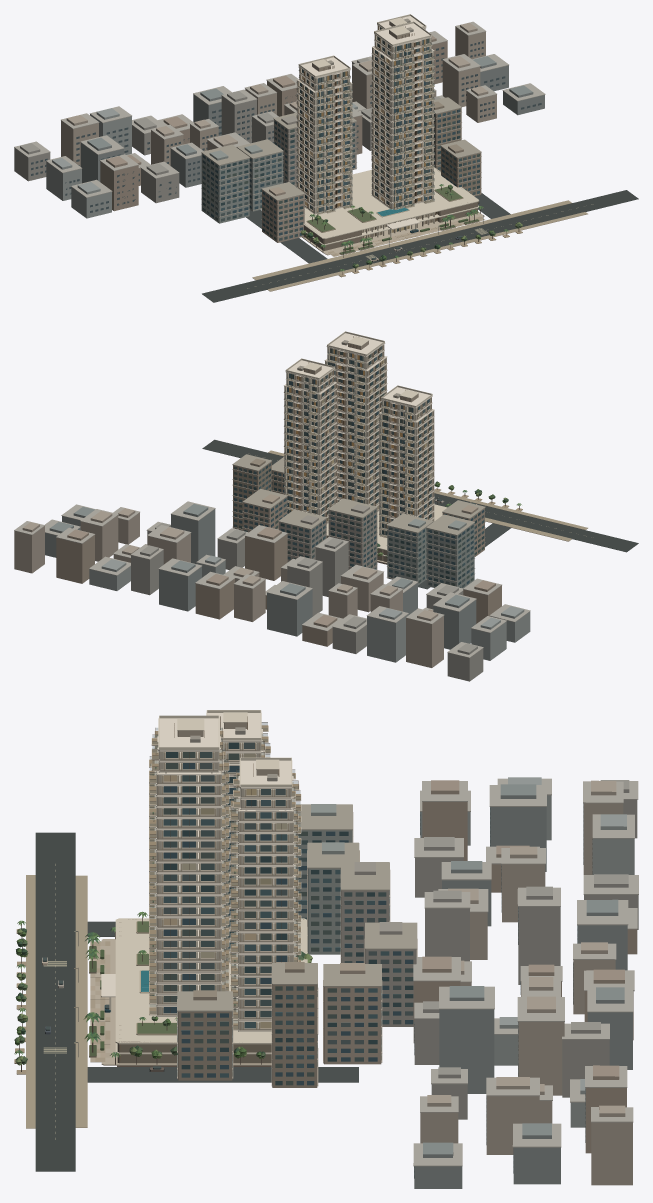
File: mumbai-residential.glb
3 renders of one model, top to bottom at view 1: azimuth 30°, elevation 25°; view 2: azimuth 150°, elevation 25°; view 3: azimuth 270°, elevation 25°, orthographic. The views are drawn at different scales.
Parts seen in each view (by area): view 1: context.skyline, site.podium, site.road.main, site.landscape, context.06, site.planting, context.00, context.02, context.01, context.05, context.03, site.road.sides (+2 smaller); view 2: context.skyline, context.06, site.road.main, context.03, context.02, context.07, context.05, context.04, site.landscape, context.00, east.roof, west.roof (+2 smaller); view 3: context.skyline, site.road.main, site.landscape, site.podium, context.04, context.05, context.01, context.07, context.02, context.03, site.planting, site.road.sides (+4 smaller).
Part boxes in pixels (x1,y1,x2,y2): context.skyline: (14, 21, 545, 218); site.podium: (303, 168, 483, 261); site.road.main: (202, 190, 638, 302); site.landscape: (247, 200, 593, 291); context.06: (201, 144, 250, 223); site.planting: (301, 184, 522, 277); context.00: (261, 182, 304, 242); context.02: (236, 139, 283, 211); context.01: (440, 139, 481, 196); context.05: (434, 97, 461, 171); context.03: (273, 112, 297, 187); site.road.sides: (246, 193, 510, 263); context.skyline: (14, 501, 530, 681); context.06: (426, 514, 475, 588); site.road.main: (202, 439, 638, 552); context.03: (328, 498, 377, 569); context.02: (386, 513, 433, 585); context.07: (278, 509, 326, 561); context.05: (232, 454, 272, 530); context.04: (242, 488, 287, 532); site.landscape: (248, 450, 591, 563); context.00: (442, 500, 485, 556); east.roof: (326, 331, 385, 356); west.roof: (380, 385, 432, 408); context.skyline: (413, 777, 638, 1188); site.road.main: (35, 832, 75, 1171); site.landscape: (26, 864, 271, 1139); site.podium: (42, 918, 307, 1071); context.04: (323, 963, 382, 1064); context.05: (271, 962, 318, 1087); context.01: (177, 990, 233, 1080); context.07: (364, 922, 417, 1026); context.02: (307, 842, 359, 954); context.03: (340, 862, 390, 962); site.planting: (14, 911, 312, 1074); site.road.sides: (87, 921, 358, 1082).
Size of what is drawn, in the model's own units: 272 by 102 by 195.
